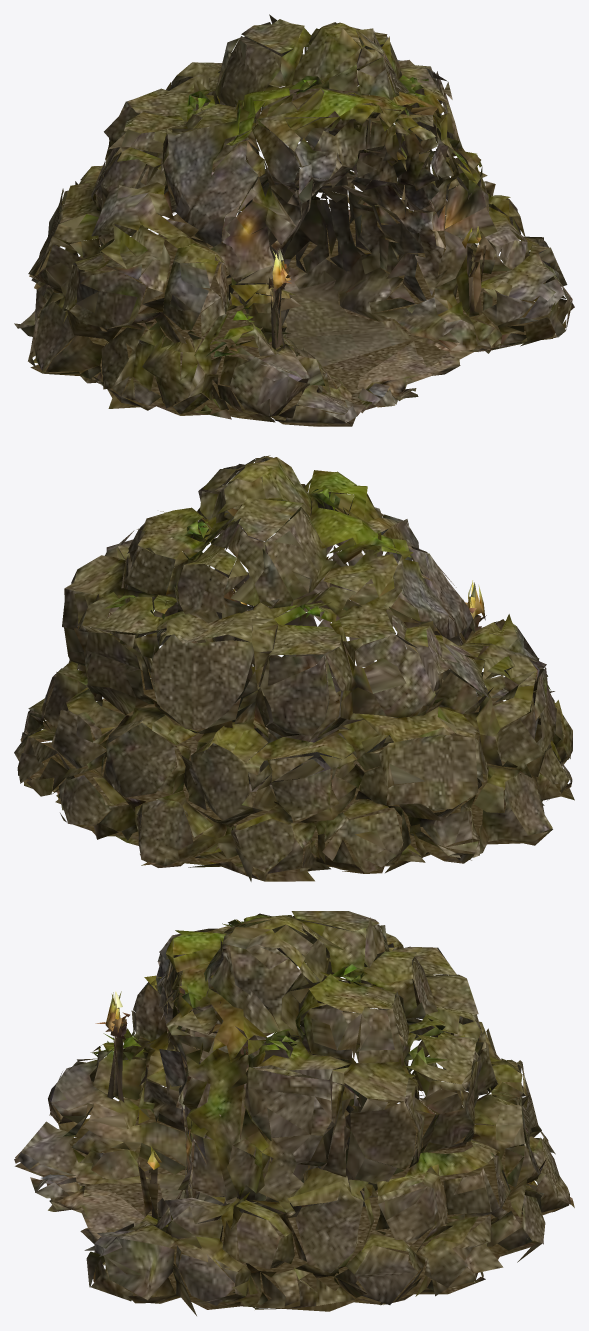
File: caverna_lod1.glb
3 renders of one model, top to bottom at view 1: azimuth 30°, elevation 25°; view 2: azimuth 150°, elevation 25°; view 3: azimuth 270°, elevation 25°, orthographic. The views are drawn at different scales.
Visible parts, largest first — view 1: caverna; view 2: caverna; view 3: caverna.
Part boxes in pixels (x1,y1,x2,y2): caverna: (14, 14, 574, 426); caverna: (14, 455, 574, 881); caverna: (14, 911, 574, 1315).
Size of the model in its own units: 8.87 by 5.12 by 8.26.
Materials: 1 (1 with a texture image).
